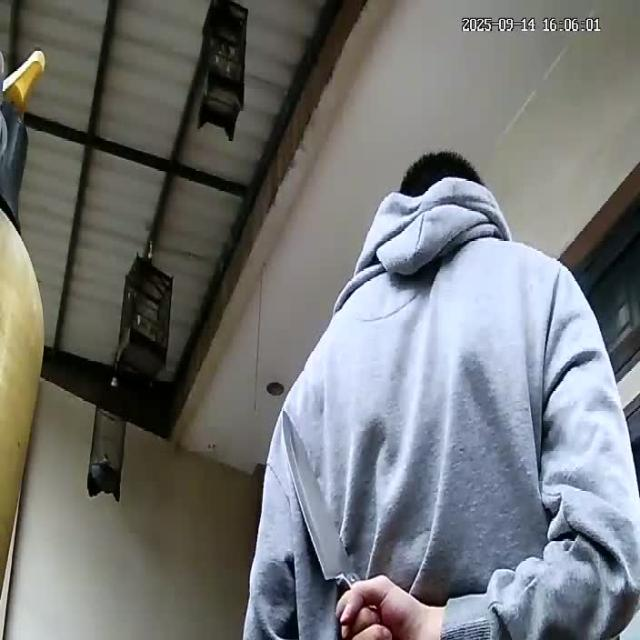senjata_tajam: (279, 405, 360, 588)
